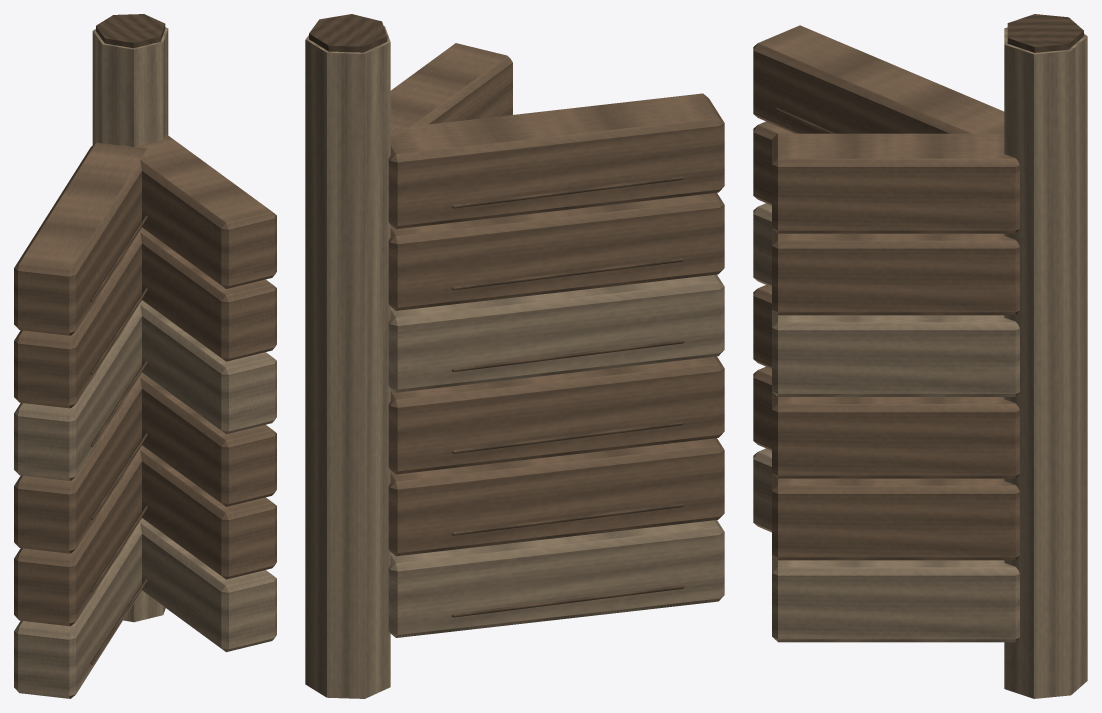
File: wall_mask_129.glb
The picture shows the model from 3 angles, left to right: view 1: azimuth 30°, elevation 25°; view 2: azimuth 150°, elevation 25°; view 3: azimuth 270°, elevation 25°; orthographic projection. The views are drawn at different scales.
Visible parts, largest first — view 1: wall_mask_129__Weathered_timber, wall_mask_129__Timber_worn_edges, wall_mask_129__Dark_endgrain; view 2: wall_mask_129__Weathered_timber, wall_mask_129__Timber_worn_edges, wall_mask_129__Dark_endgrain; view 3: wall_mask_129__Weathered_timber, wall_mask_129__Timber_worn_edges, wall_mask_129__Dark_endgrain.
Boxes of the visible parts, bbox=[...] form: wall_mask_129__Weathered_timber: bbox=[14, 134, 276, 626]; wall_mask_129__Timber_worn_edges: bbox=[14, 27, 276, 698]; wall_mask_129__Dark_endgrain: bbox=[90, 14, 165, 664]; wall_mask_129__Weathered_timber: bbox=[388, 43, 724, 556]; wall_mask_129__Timber_worn_edges: bbox=[305, 26, 724, 698]; wall_mask_129__Dark_endgrain: bbox=[309, 14, 684, 617]; wall_mask_129__Weathered_timber: bbox=[753, 25, 1019, 560]; wall_mask_129__Timber_worn_edges: bbox=[753, 27, 1087, 698]; wall_mask_129__Dark_endgrain: bbox=[775, 14, 1083, 133].
Size of the model in its own units: 0.6463 by 1.39 by 0.6484.
3 materials, 3 textured.
